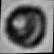correct: (3, 5, 50, 51)
